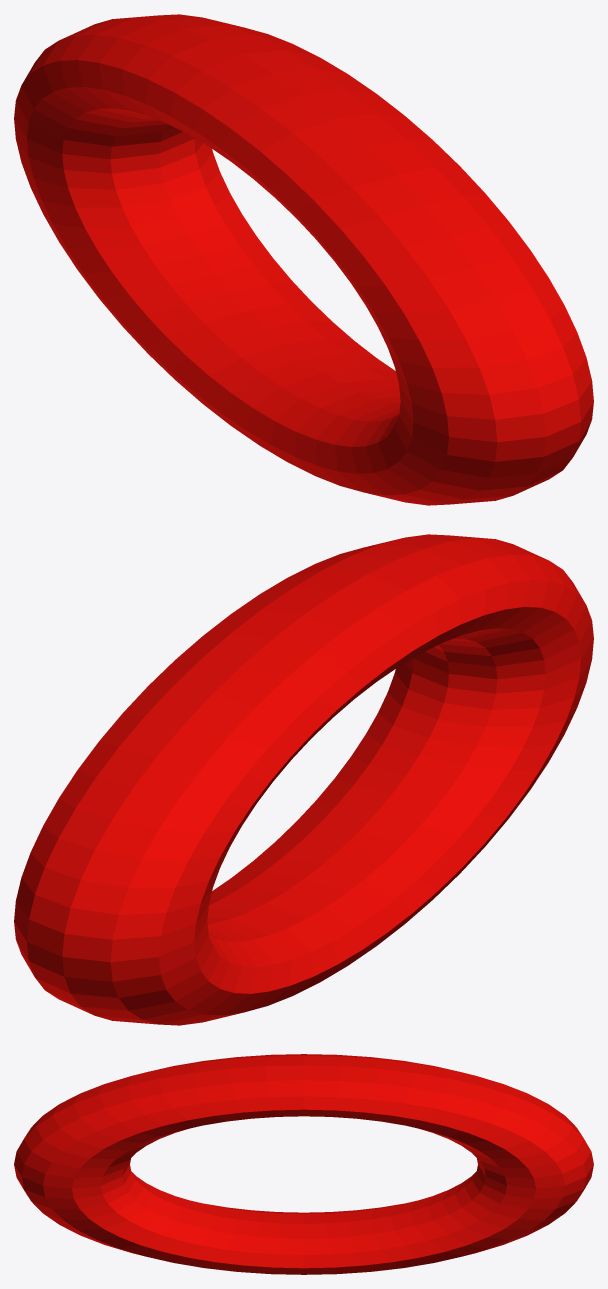
Rendered from mouth02.glb.
3 views of the same model, one above another, from view 1: azimuth 30°, elevation 25°; view 2: azimuth 150°, elevation 25°; view 3: azimuth 270°, elevation 25° (orthographic). The views are drawn at different scales.
Visible parts, largest first — view 1: Torus.001; view 2: Torus.001; view 3: Torus.001.
Part boxes in pixels (<box>): Torus.001: <box>14,14,593,505</box>; Torus.001: <box>14,534,593,1025</box>; Torus.001: <box>14,1054,593,1274</box>.
Bounding box in the file's own units: 0.0744 × 0.1403 × 0.3721.
